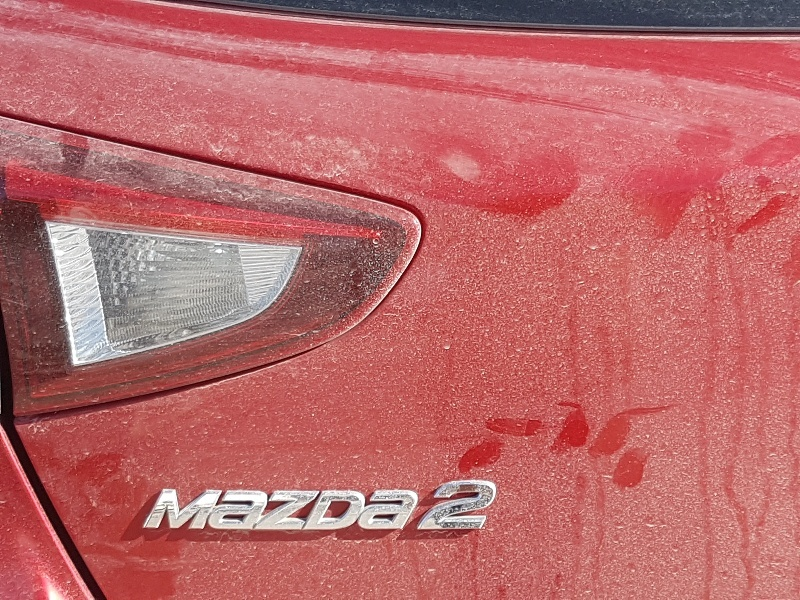text: (177, 479, 192, 532), (193, 479, 208, 532), (209, 479, 224, 532), (225, 479, 240, 532), (241, 479, 256, 532), (257, 479, 272, 532), (273, 479, 288, 532), (289, 479, 304, 532), (305, 479, 320, 532), (321, 479, 336, 532), (337, 479, 352, 532), (353, 479, 368, 532), (369, 479, 384, 532), (385, 479, 400, 532), (401, 479, 416, 532), (417, 479, 432, 532), (433, 479, 448, 532), (449, 479, 464, 532), (465, 479, 480, 532), (481, 479, 496, 532), (163, 479, 176, 532), (497, 479, 502, 532)
